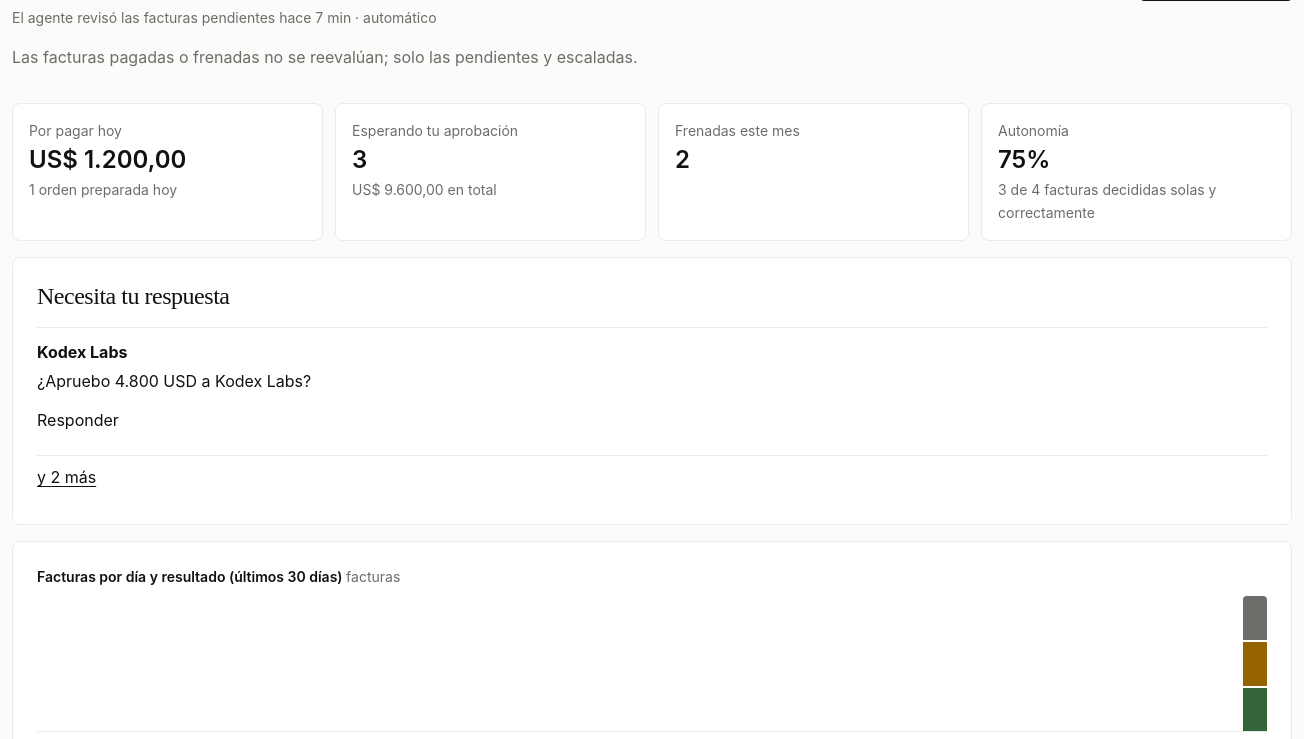
Test: «y 2 más» filters the table to ESCALAR (AC-101)
Click the link "y 2 más" at (67, 477), box [37,467,96,487]
(page scrolled)
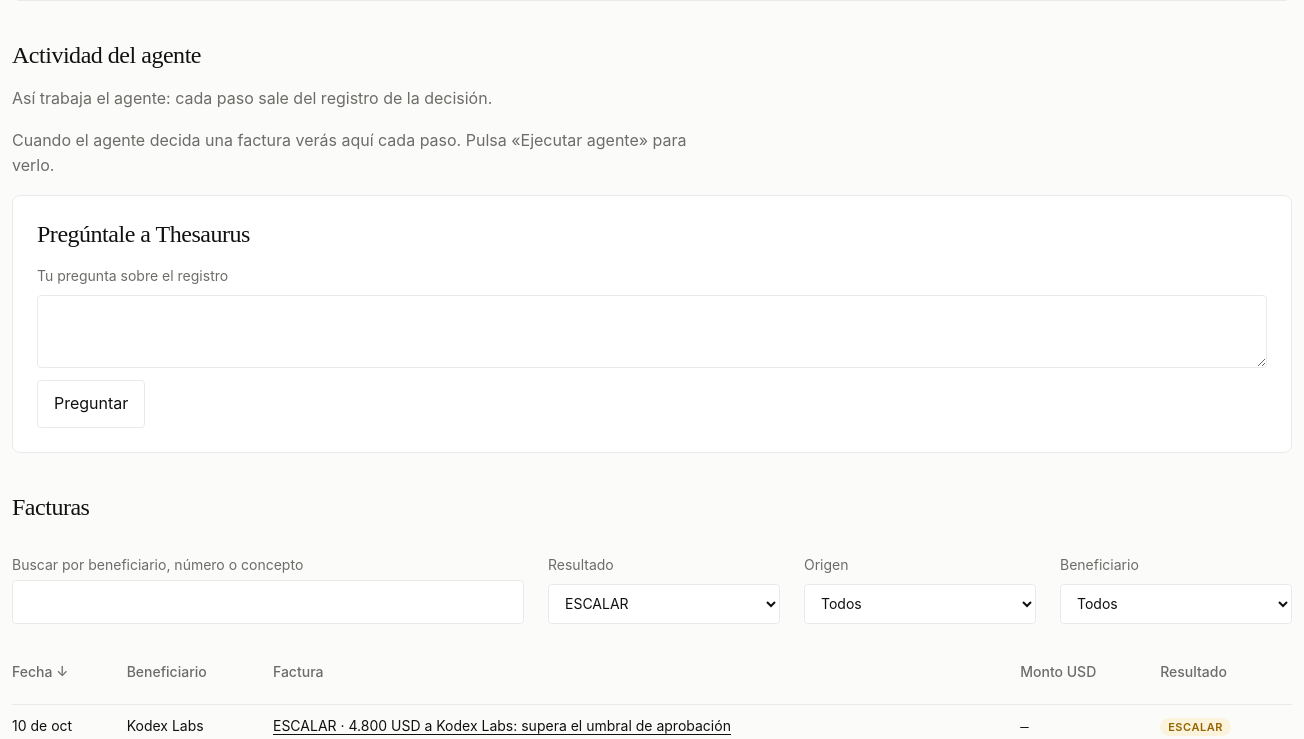
Expected: the text "ESCALAR" is shown, [1160,718,1231,736]
Expected: the dropdown labelled "Resultado" shows "ESCALAR", [548,584,780,624]
